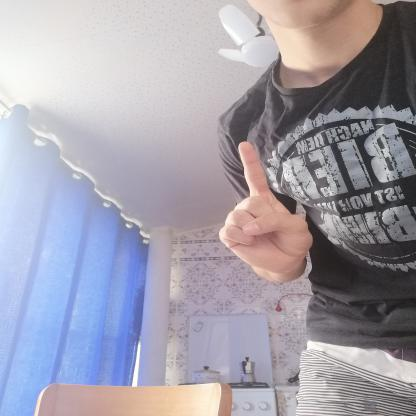BAA: (206, 129, 323, 280)
